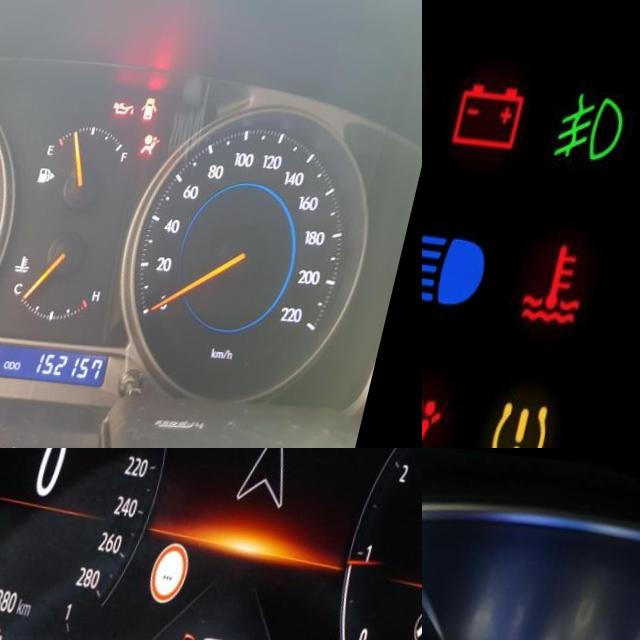Doors: (148, 87, 169, 113)
Engine cooling system: (530, 229, 603, 313)
FrontFogLight: (558, 80, 631, 150)
